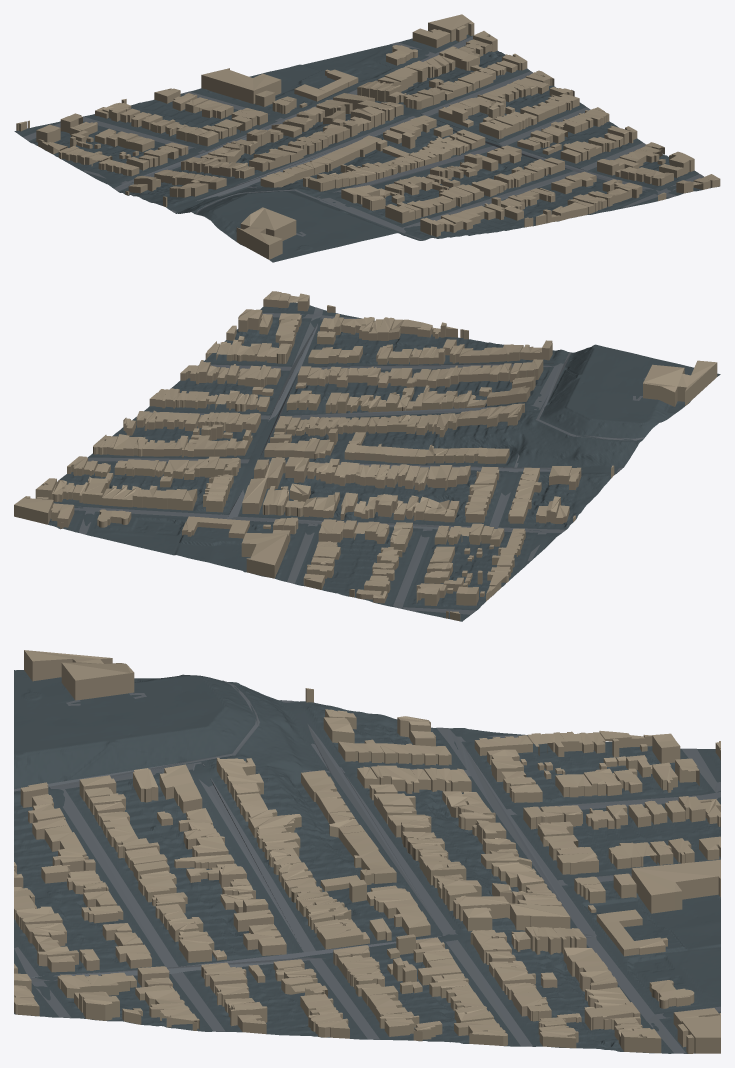
Rendered from epsg26910-1437-10870.lod0.glb.
3 renders of one model, top to bottom at view 1: azimuth 30°, elevation 25°; view 2: azimuth 150°, elevation 25°; view 3: azimuth 270°, elevation 25°, orthographic. The views are drawn at different scales.
Visible parts, largest first — view 1: epsg26910-1437-10870-lod0; view 2: epsg26910-1437-10870-lod0; view 3: epsg26910-1437-10870-lod0.
Part boxes in pixels (left/top/right/bottom): epsg26910-1437-10870-lod0: left=14, top=14, right=720, bottom=262; epsg26910-1437-10870-lod0: left=14, top=291, right=720, bottom=621; epsg26910-1437-10870-lod0: left=14, top=650, right=720, bottom=1053.
Bounding box in the file's own units: 384 × 64.12 × 384.
